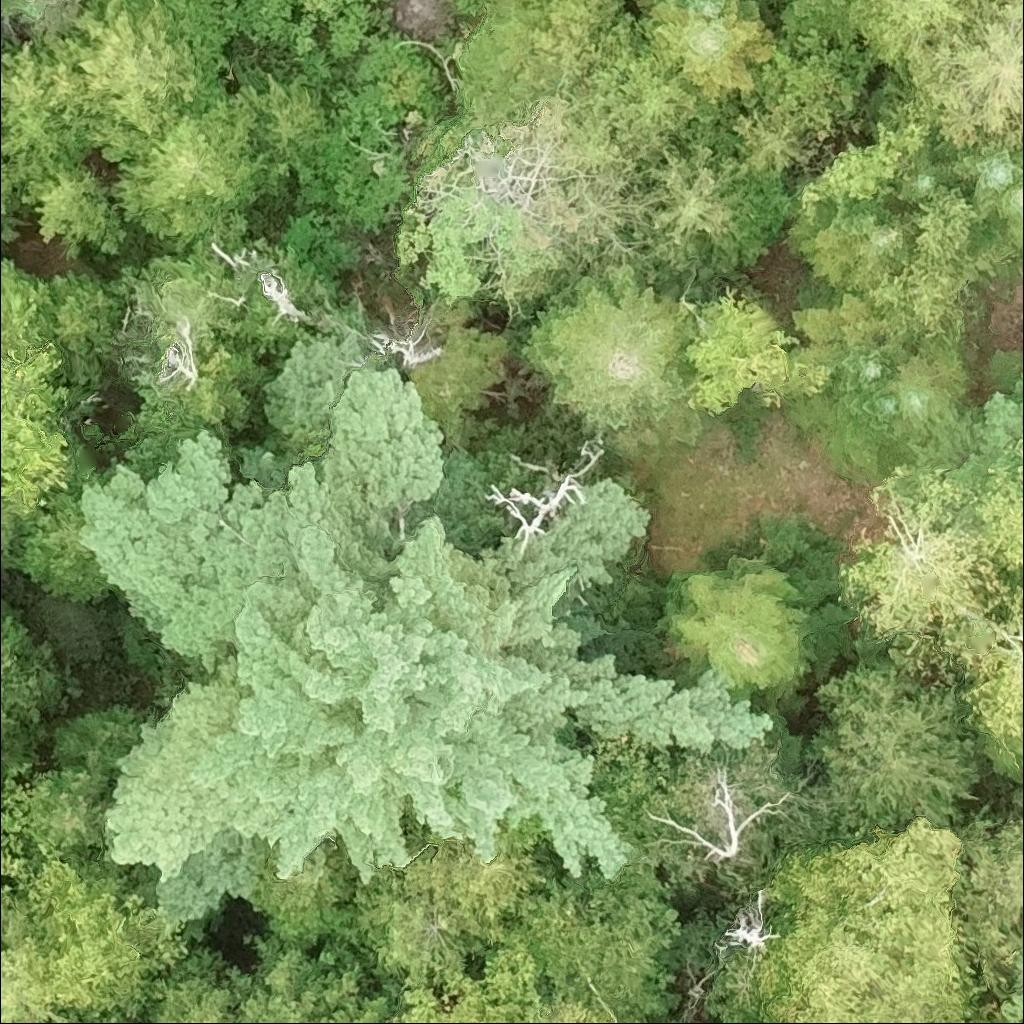crown: (75, 328, 774, 926), (749, 816, 980, 1023), (661, 510, 856, 711), (811, 621, 982, 838), (0, 849, 191, 1023), (517, 275, 699, 431), (838, 473, 1011, 634), (110, 85, 270, 243), (503, 880, 683, 1012), (53, 0, 200, 160), (847, 183, 988, 345), (392, 926, 611, 1023), (674, 285, 835, 412), (899, 0, 1023, 147), (796, 97, 935, 225), (631, 134, 754, 276), (350, 868, 487, 990), (591, 25, 719, 153), (626, 0, 776, 104), (396, 841, 549, 939), (893, 390, 1023, 498), (215, 934, 363, 1023), (0, 337, 76, 510), (941, 580, 1023, 738), (785, 196, 924, 289), (788, 294, 911, 399), (0, 36, 99, 165), (949, 794, 1023, 965), (790, 380, 903, 483), (0, 596, 66, 763), (890, 336, 975, 461), (11, 152, 113, 244), (120, 945, 232, 1023), (853, 0, 983, 67), (725, 97, 820, 183), (929, 137, 1023, 216), (250, 74, 328, 165), (41, 274, 123, 353), (0, 930, 67, 1023), (976, 466, 1023, 572), (0, 255, 45, 361), (767, 0, 859, 44), (983, 183, 1023, 257), (985, 344, 1023, 404), (996, 940, 1023, 1023), (670, 0, 763, 22), (0, 0, 83, 20), (0, 155, 29, 209), (849, 0, 877, 26), (0, 797, 9, 846), (0, 38, 11, 64), (60, 1014, 88, 1023), (967, 1017, 1008, 1023), (1014, 440, 1023, 463), (101, 1013, 120, 1023)
